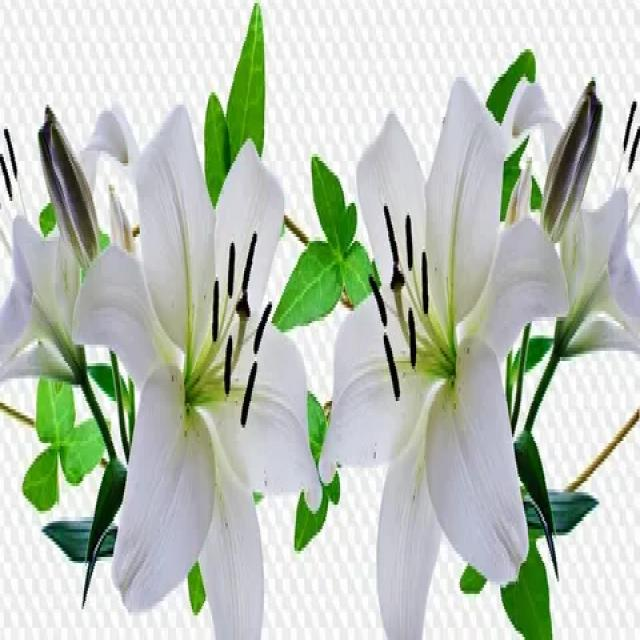lily: (328, 46, 567, 640)
